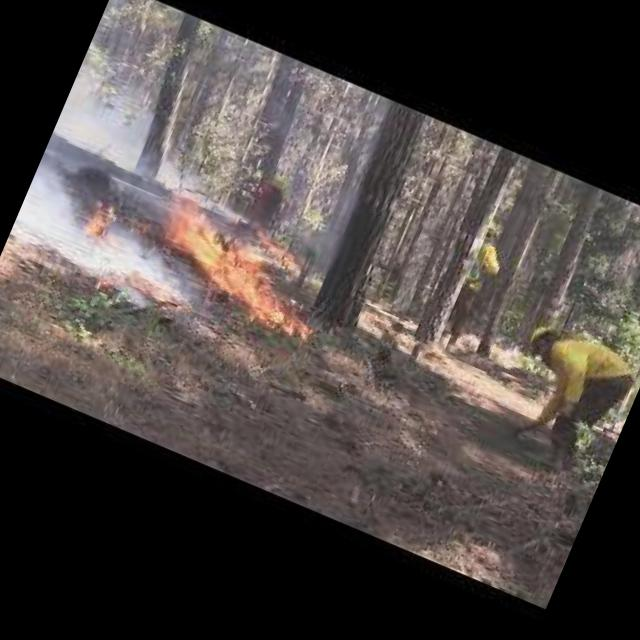fire: (140, 190, 346, 344), (246, 225, 304, 270)
